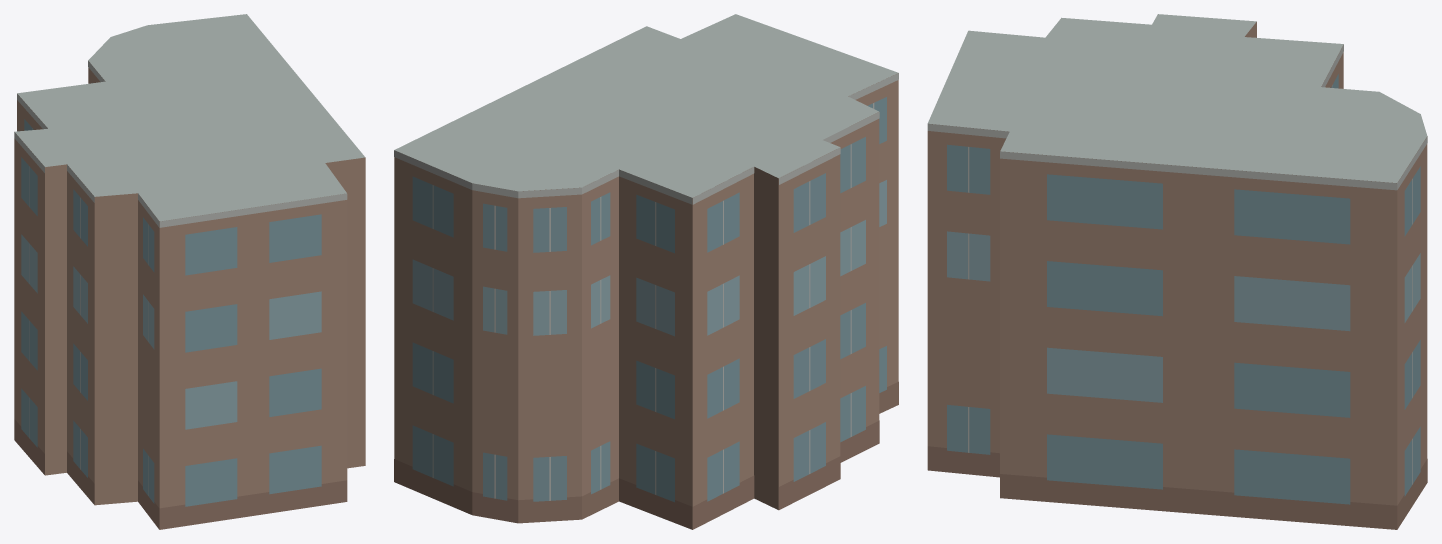
The model's file is survey-upis-32623898.glb.
3 renders of one model, left to right at view 1: azimuth 30°, elevation 25°; view 2: azimuth 150°, elevation 25°; view 3: azimuth 270°, elevation 25°, orthographic. The views are drawn at different scales.
Parts seen in each view (by area): view 1: survey-upis-32623898.tmp; view 2: survey-upis-32623898.tmp; view 3: survey-upis-32623898.tmp.
Boxes of the visible parts, x1=… form: survey-upis-32623898.tmp: x1=14, y1=14, x2=365, y2=529; survey-upis-32623898.tmp: x1=394, y1=14, x2=898, y2=529; survey-upis-32623898.tmp: x1=927, y1=14, x2=1427, y2=529.
Bounding box in the file's own units: 12.25 × 11.7 × 15.3.
